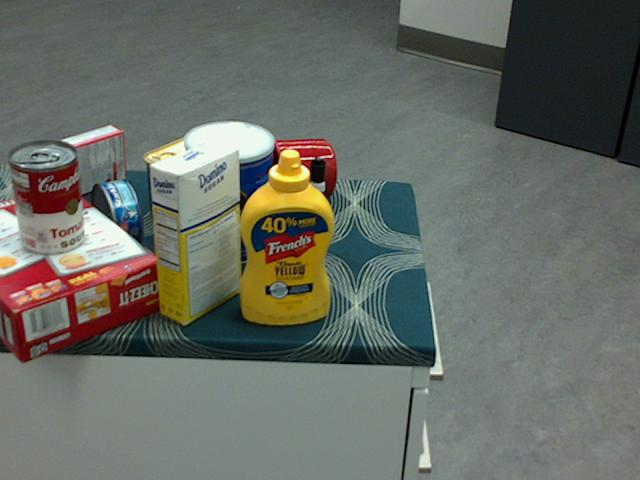cracker_box: (0, 182, 164, 362)
gelatin_box: (55, 125, 125, 198)
large_marker: (309, 157, 325, 251)
master_chef_can: (181, 120, 271, 265)
mug: (256, 135, 335, 206)
mustard_bottle: (240, 148, 334, 324)
potted_meat_can: (141, 133, 219, 225)
sugar_box: (148, 140, 241, 324)
tomato_soup_can: (8, 140, 84, 255)
tuna_fish_can: (89, 179, 140, 255)
